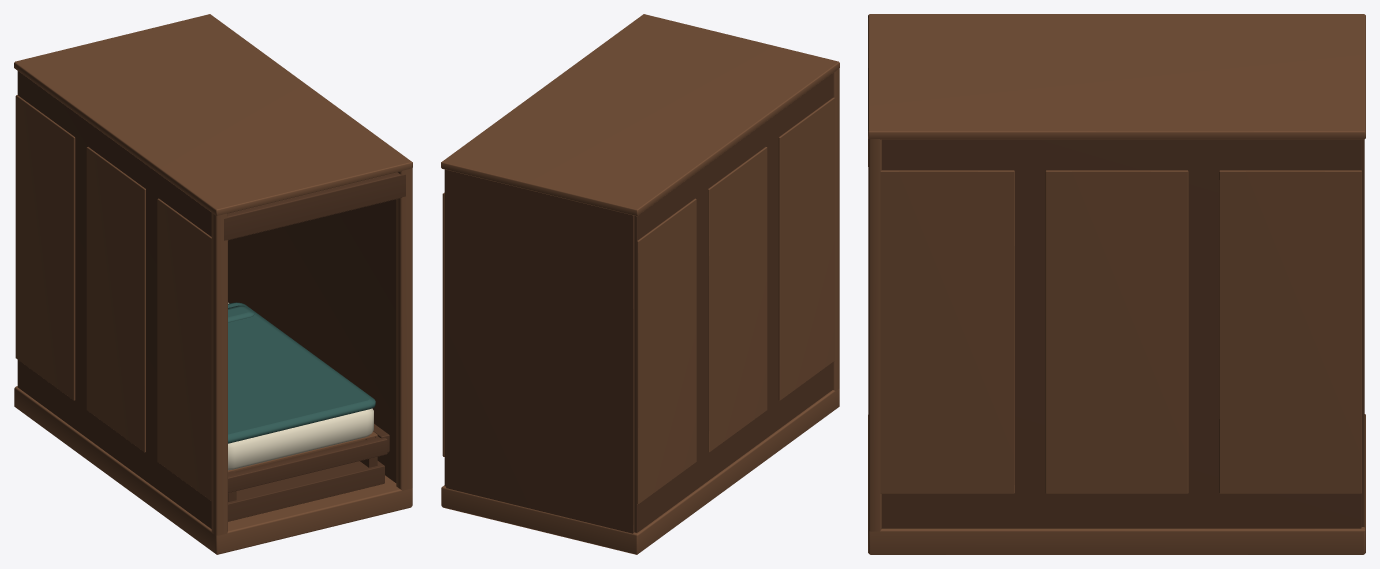
File: rpg-mansion-alcove-enclosed-single-bed-01.glb
3 renders of one model, left to right at view 1: azimuth 30°, elevation 25°; view 2: azimuth 150°, elevation 25°; view 3: azimuth 270°, elevation 25°, orthographic. The views are drawn at different scales.
Visible parts, largest first — view 1: rpg-mansion-alcove-enclosed-single-bed-01; view 2: rpg-mansion-alcove-enclosed-single-bed-01; view 3: rpg-mansion-alcove-enclosed-single-bed-01.
Boxes of the visible parts, x1,y1,x2,y2 form: rpg-mansion-alcove-enclosed-single-bed-01: (14,14,412,554); rpg-mansion-alcove-enclosed-single-bed-01: (441,14,839,554); rpg-mansion-alcove-enclosed-single-bed-01: (868,14,1365,554).
Size of the model in its own units: 1.24 by 2.08 by 2.21.
